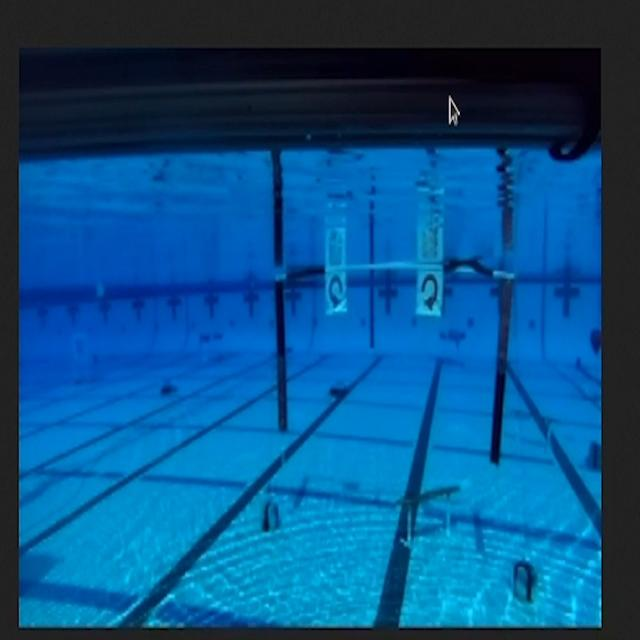Gate: (262, 247, 525, 478)
Path: (383, 469, 467, 560)
